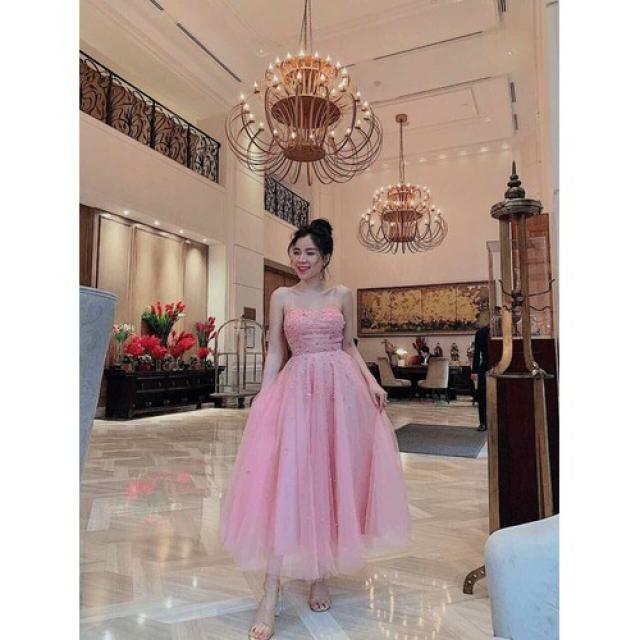clothes: (238, 287, 412, 581)
